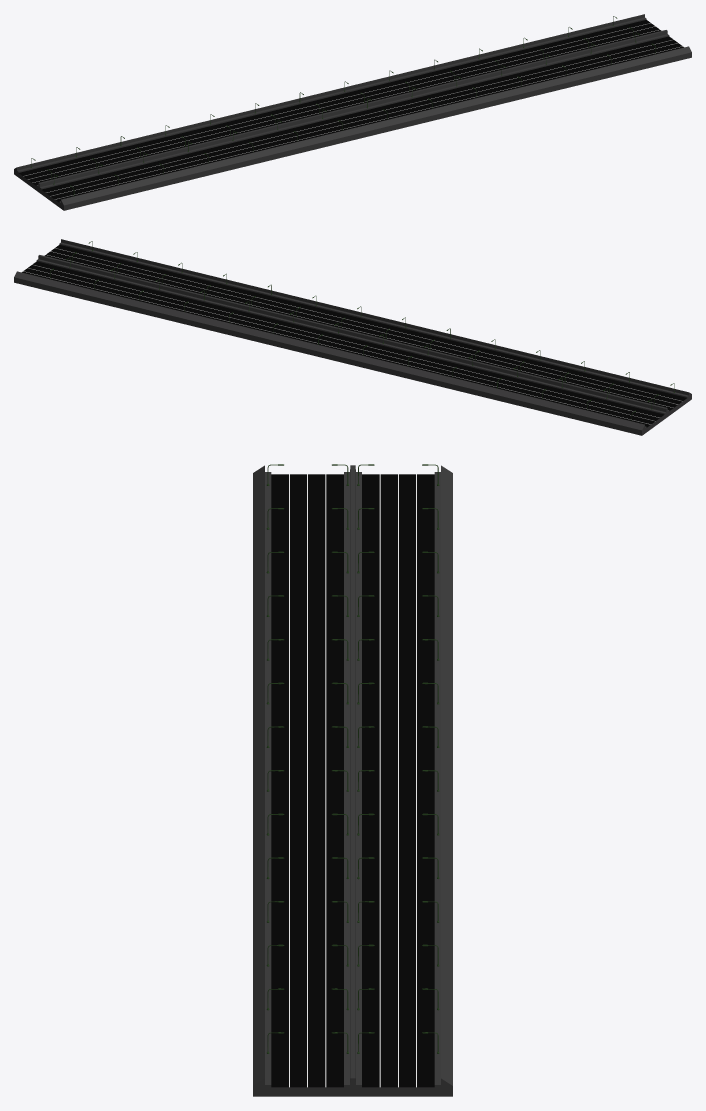
File: Road_01.fbx
3 renders of one model, top to bottom at view 1: azimuth 30°, elevation 25°; view 2: azimuth 150°, elevation 25°; view 3: azimuth 270°, elevation 25°, orthographic. The views are drawn at different scales.
Visible parts, largest first — view 1: RoadUnder; view 2: RoadUnder; view 3: RoadUnder.
Part boxes in pixels (box(x1,y1,x2,y2)): RoadUnder: box(14, 14, 691, 210); RoadUnder: box(14, 239, 691, 435); RoadUnder: box(253, 465, 452, 1096).
Size of the model in its own units: 4683 by 149 by 645.
